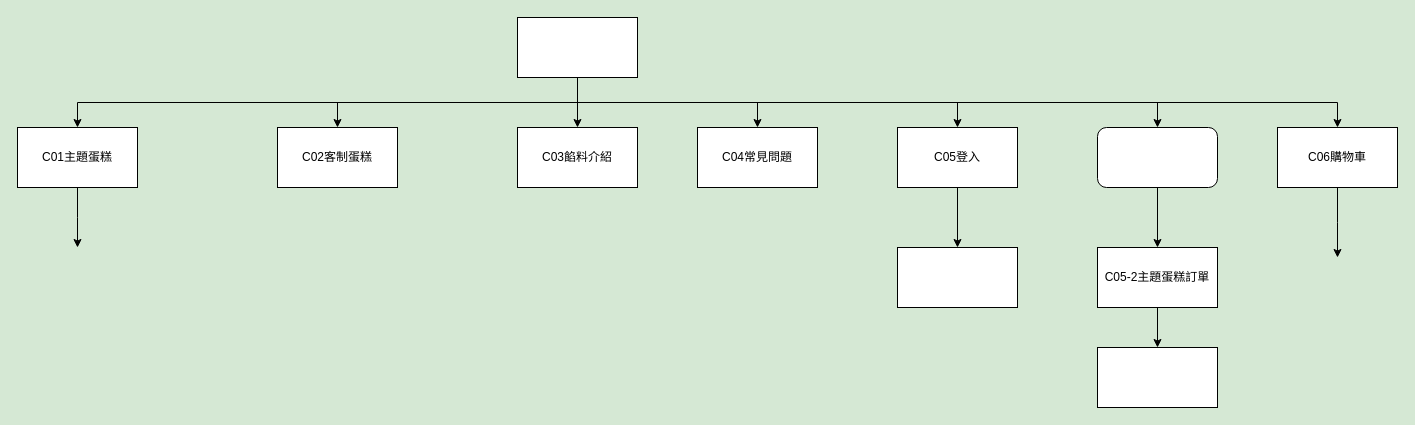
This 1415x425 diagram has some shape labels left out. The centre of each missing label's shape, as x and y in pixels:
"C05-1註冊" belongs at pixel 957 277.
"C05-3客制化訂單" belongs at pixel 1157 377.
"index首頁" belongs at pixel 577 47.
"登入者有權限時" belongs at pixel 1157 157.
